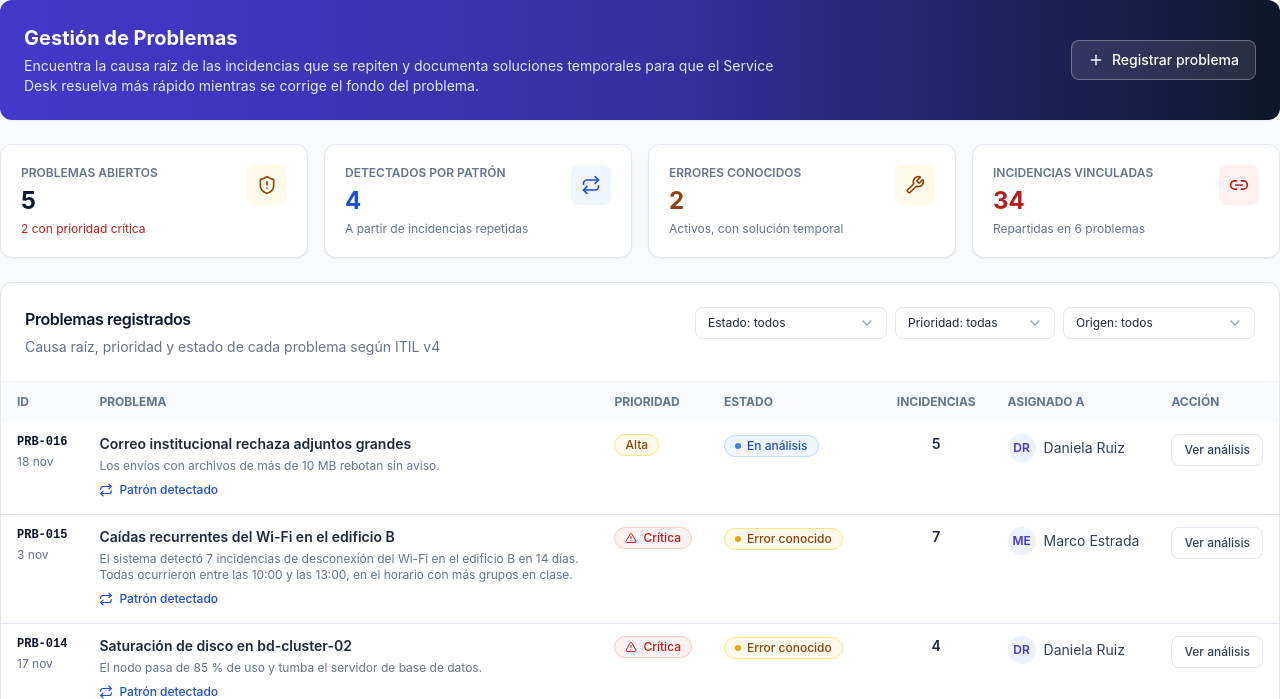
Test case: ProblemsPage › registra un problema en el servicio y valida los campos obligatorios
The width and height of the screenshot is (1280, 699).
Click the button "Registrar problema".
click(1163, 60)  # box [1071, 40, 1256, 80]
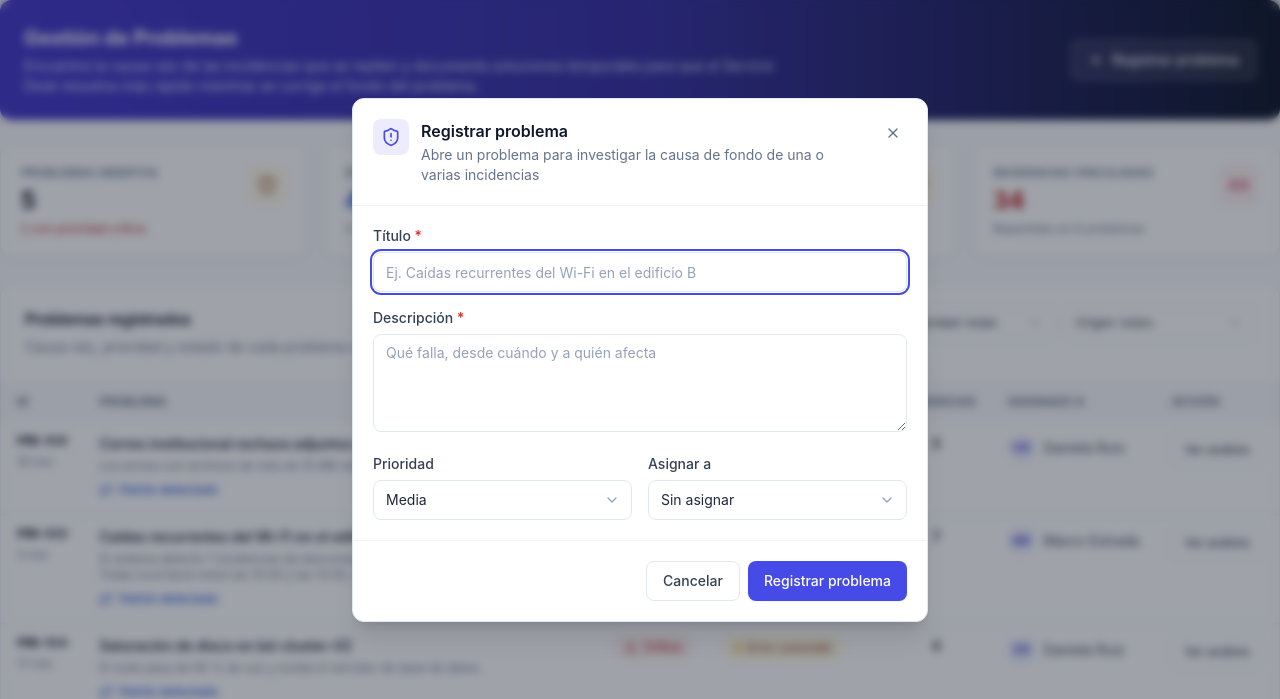
Click the button "Registrar problema".
click(827, 581)  # box [748, 561, 907, 601]
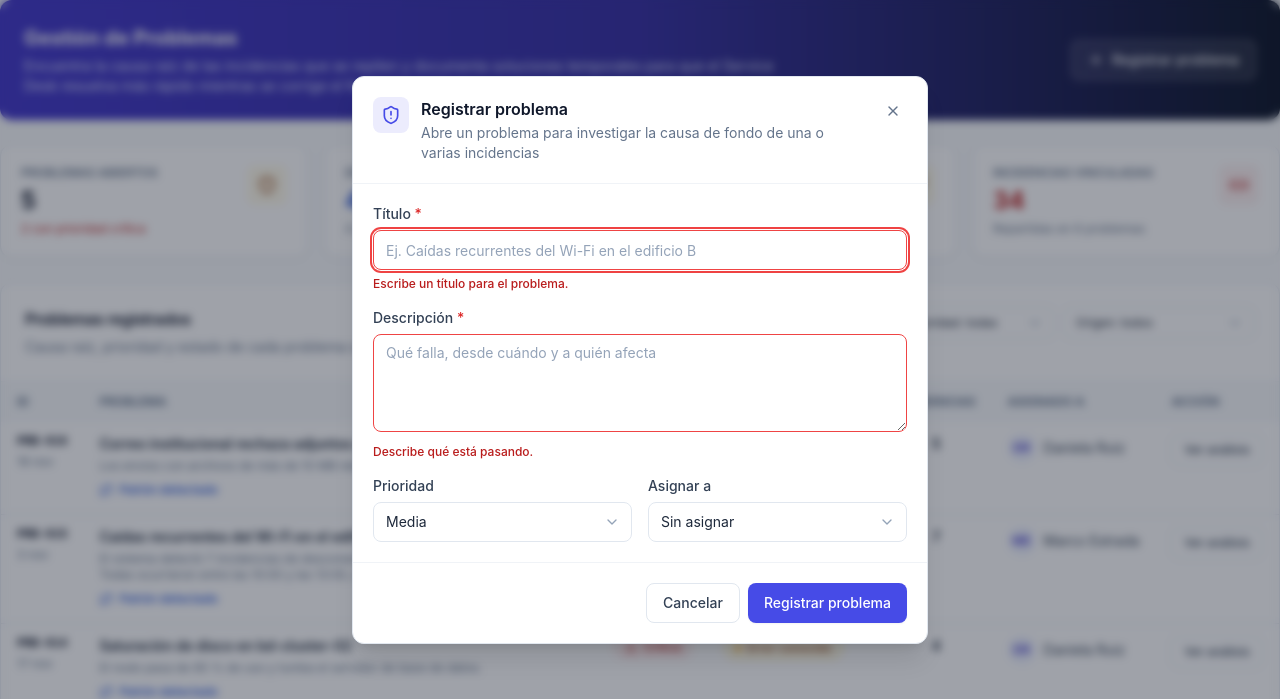
Expected: the text "Escribe un título para el problema." is shown, [373, 276, 568, 291]
Type "Proyectores del edificio C sin señal" into the field labelled "Título *".
click(640, 250); type("Proyectores del edificio C sin señal")  # box [373, 230, 907, 270]
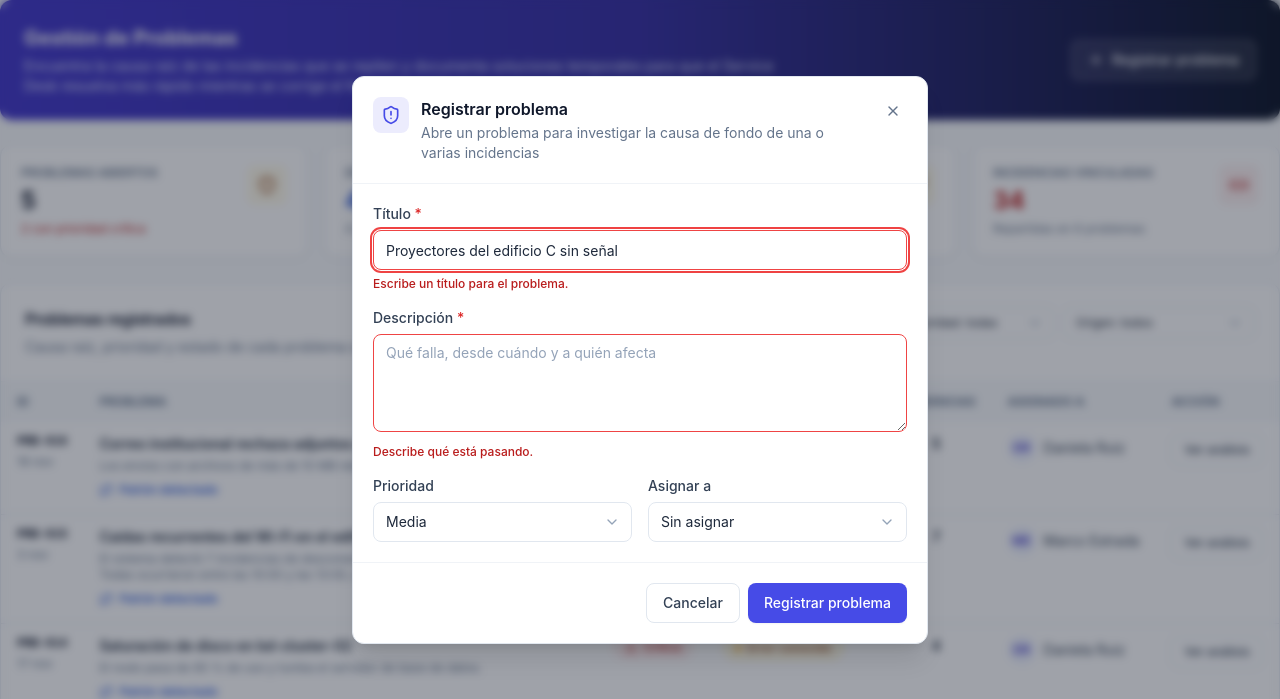
Type "Fallan cada lunes por la mañana." into the text box labelled "Descripción *".
click(640, 383); type("Fallan cada lunes por la mañana.")  # box [373, 334, 907, 432]
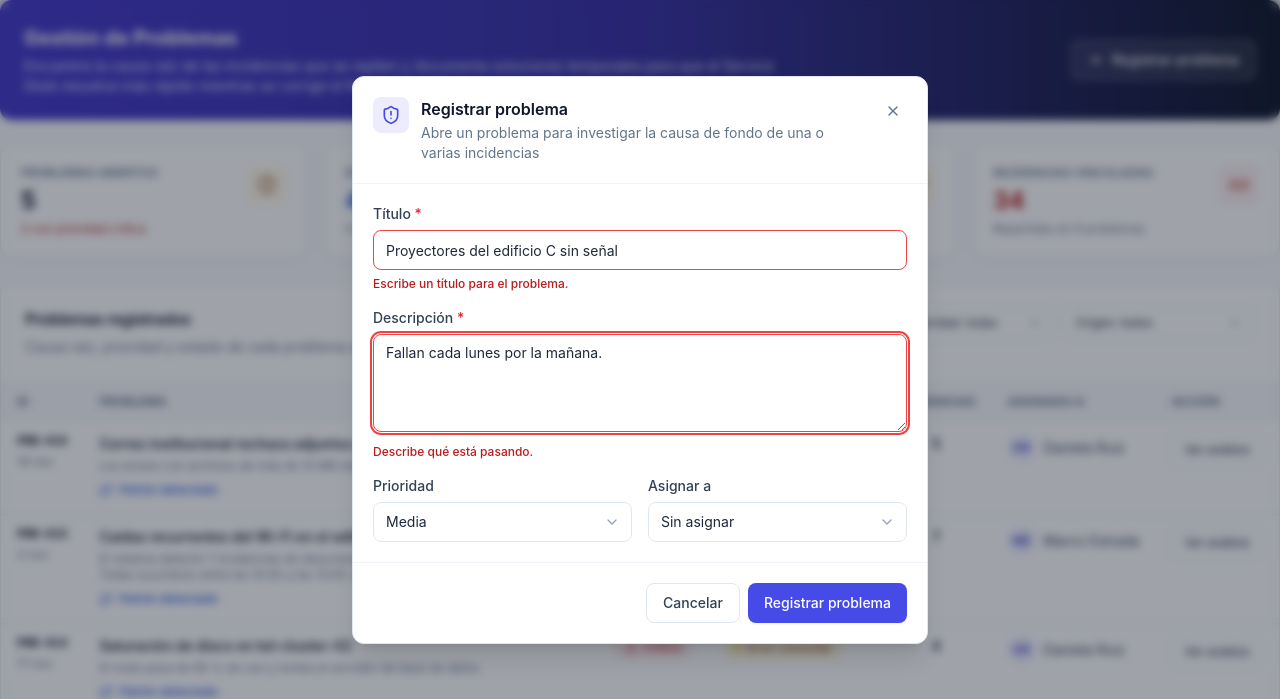
Click the button "Registrar problema".
click(827, 603)  # box [748, 583, 907, 623]
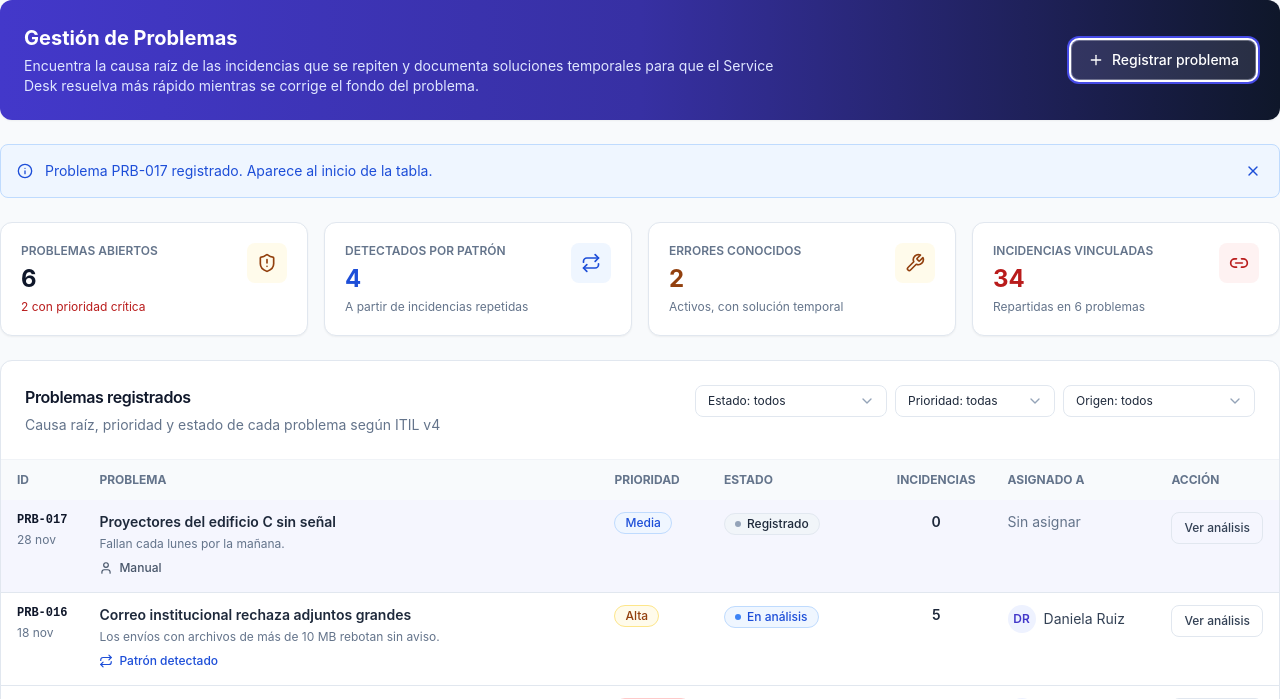
Expected: the message shows "Problema PRB-017 registrado", [45, 162, 432, 179]
Expected: the dialog is gone
Expected: the text "Registrado" is shown, [724, 513, 820, 535]
